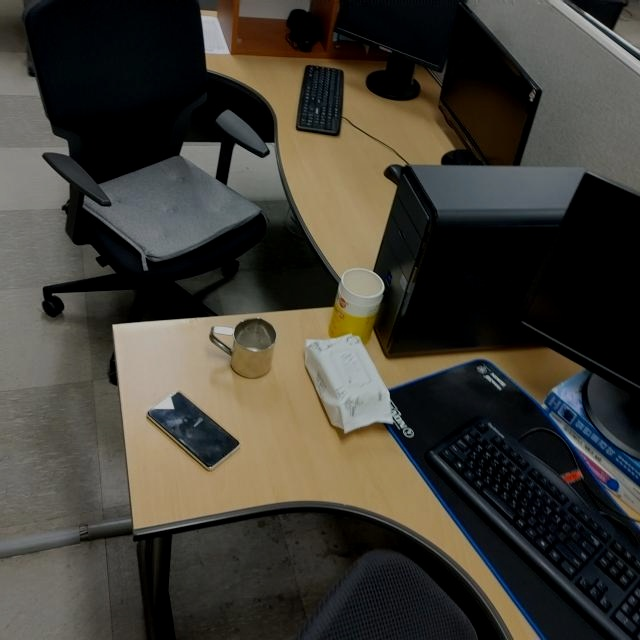cup: (210, 315, 278, 381)
phone: (143, 388, 241, 472)
